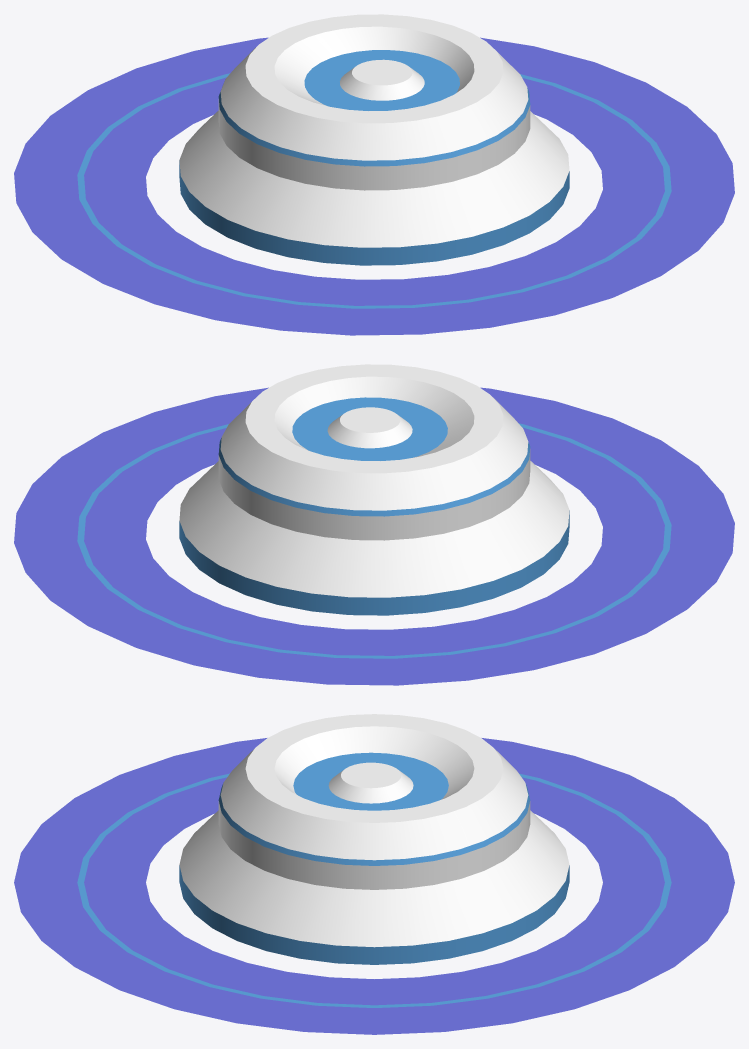
Rendered from Shoe_Store_Stage.fbx.
3 renders of one model, top to bottom at view 1: azimuth 30°, elevation 25°; view 2: azimuth 150°, elevation 25°; view 3: azimuth 270°, elevation 25°, orthographic.
Visible parts, largest first — view 1: Cylinder; view 2: Cylinder; view 3: Cylinder.
Part boxes in pixels (bbox=[...]): Cylinder: bbox=[14, 14, 734, 335]; Cylinder: bbox=[14, 364, 734, 685]; Cylinder: bbox=[14, 714, 734, 1034].
Bounding box in the file's own units: 559 × 97.56 × 559.
